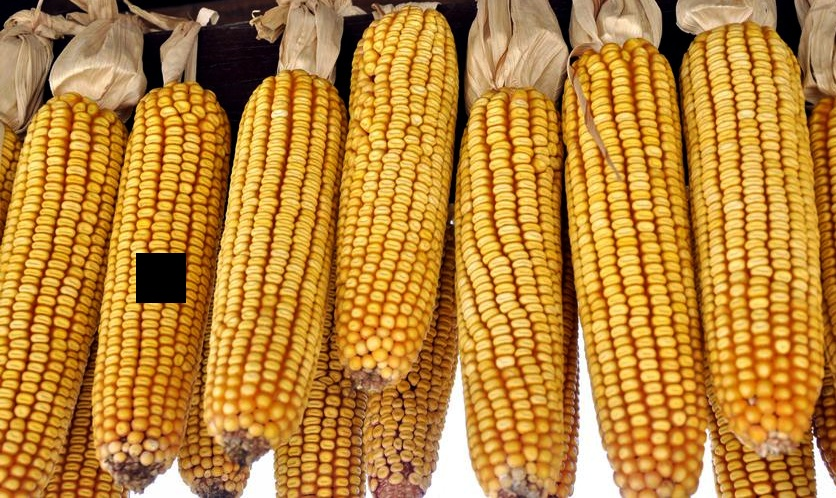corn: (562, 43, 706, 491), (679, 22, 823, 454), (338, 6, 458, 391), (1, 94, 117, 482), (458, 93, 566, 498), (220, 75, 323, 457), (107, 91, 195, 477)
